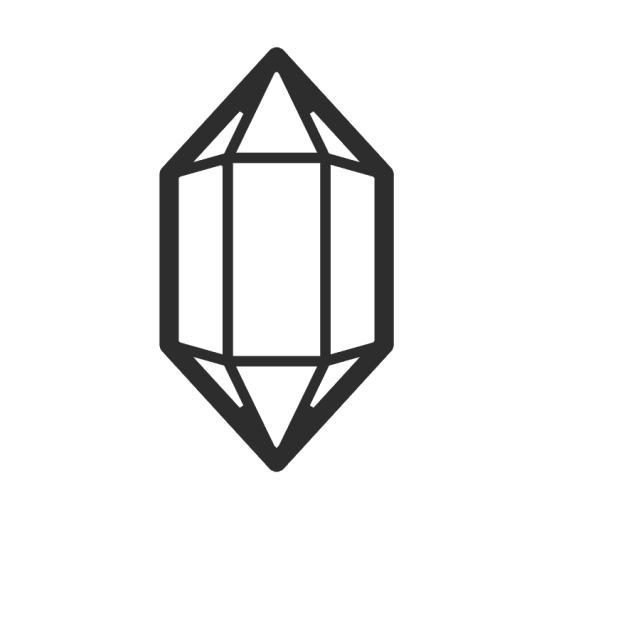crystal: (150, 41, 403, 479)
